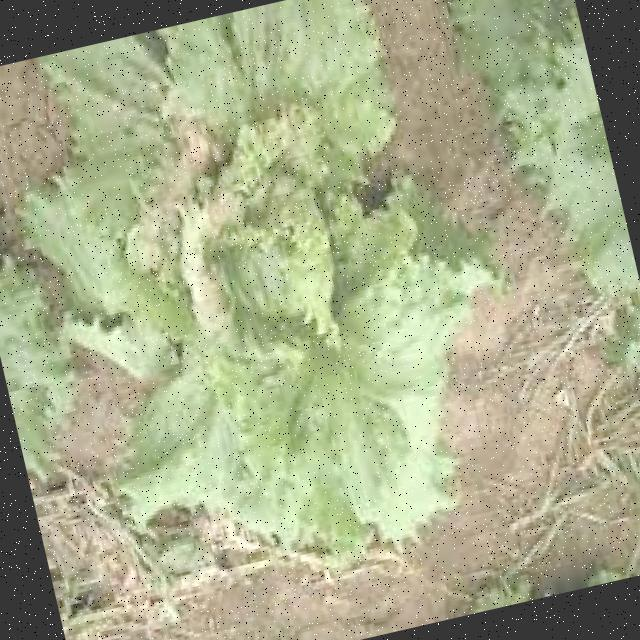Lettuce Mosaic Virus: (98, 12, 424, 529)
